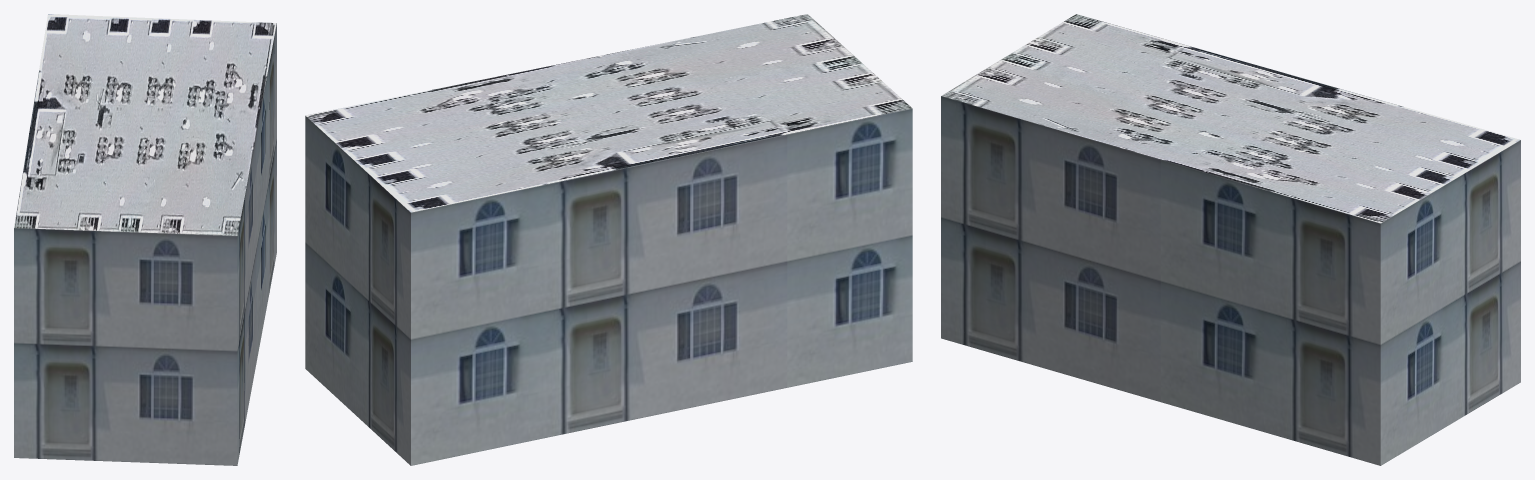
File: ResTex__1110.fbx
3 renders of one model, left to right at view 1: azimuth 30°, elevation 25°; view 2: azimuth 150°, elevation 25°; view 3: azimuth 270°, elevation 25°, orthographic. The views are drawn at different scales.
Parts seen in each view (by area): view 1: CityEngineMaterial_17_m, CityEngineMaterial_4_m; view 2: CityEngineMaterial_17_m, CityEngineMaterial_4_m; view 3: CityEngineMaterial_17_m, CityEngineMaterial_4_m.
Part boxes in pixels (<box>): CityEngineMaterial_17_m: <box>14,23,276,465</box>; CityEngineMaterial_4_m: <box>14,14,276,235</box>; CityEngineMaterial_17_m: <box>305,108,912,465</box>; CityEngineMaterial_4_m: <box>305,14,912,212</box>; CityEngineMaterial_17_m: <box>941,96,1520,465</box>; CityEngineMaterial_4_m: <box>941,14,1519,223</box>.
Bounding box in the file's own units: 11.12 × 6 × 13.
2 materials, 2 textured.
